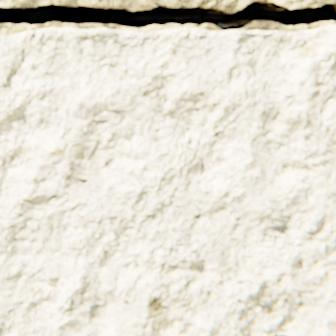brick: (0, 25, 335, 335)
crack: (0, 0, 335, 30)
